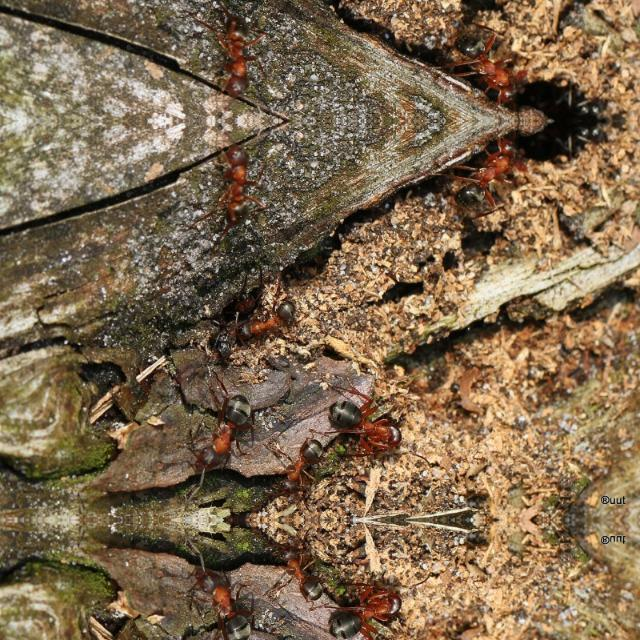Formica: (180, 380, 262, 484), (318, 380, 414, 460), (204, 143, 286, 233), (204, 7, 286, 97), (180, 552, 260, 640), (316, 576, 414, 640), (219, 290, 309, 354), (450, 137, 530, 209), (450, 31, 530, 103), (272, 429, 331, 499), (272, 539, 331, 609)
